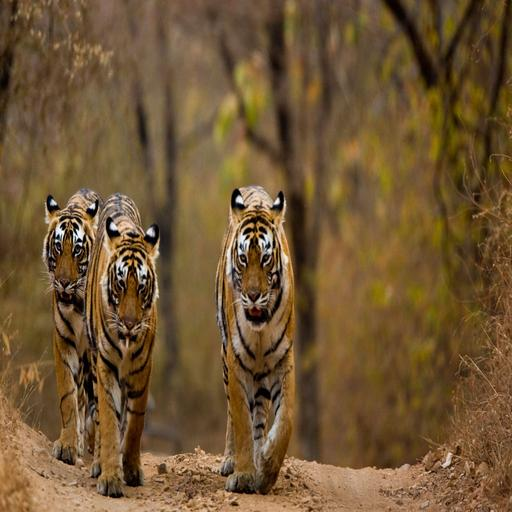Tiger: (214, 166, 315, 496), (37, 179, 121, 485), (85, 184, 165, 498)
